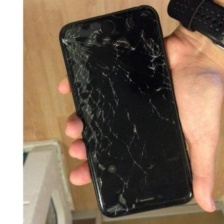phone: (55, 3, 197, 221)
